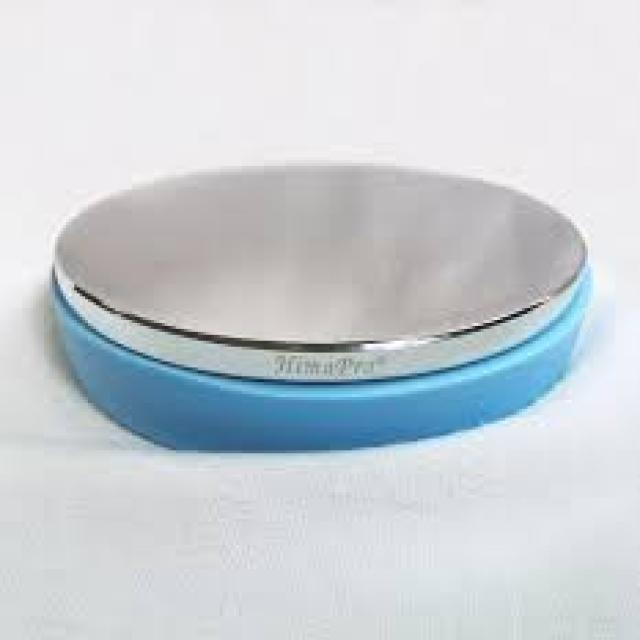Turning: (10, 112, 612, 494)
